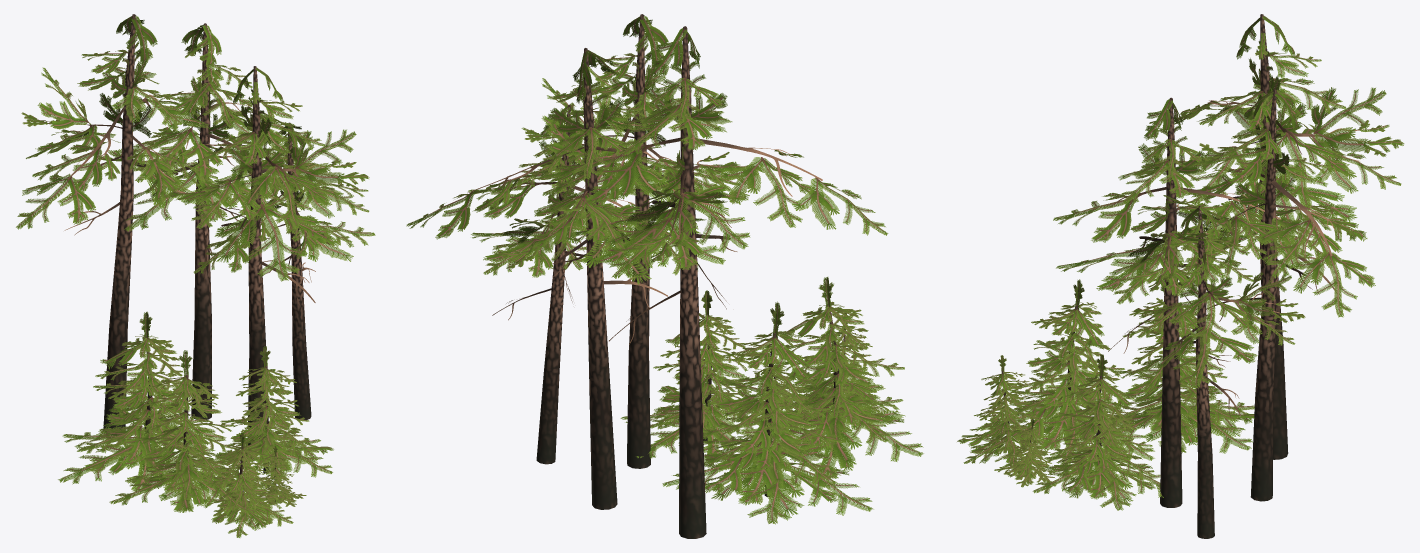
The model's file is Pines_scene (2).fbx.
3 views of the same model, side by side, from view 1: azimuth 30°, elevation 25°; view 2: azimuth 150°, elevation 25°; view 3: azimuth 270°, elevation 25° (orthographic). The views are drawn at different scales.
Parts seen in each view (by area): view 1: Stam1_low.001, Stam1_low, Stam1_low.002, Stam2_low.008, Stam2_low.005, Stam1_low.003, Stam2_low.007, Stam2_low, Stam2_low.006; view 2: Stam1_low.001, Stam1_low.002, Stam2_low.008, Stam1_low, Stam2_low.005, Stam1_low.003, Stam2_low.007, Stam2_low; view 3: Stam1_low.002, Stam1_low.001, Stam1_low, Stam1_low.003, Stam2_low.005, Stam2_low.007, Stam2_low.008, Stam2_low, Stam2_low.006.
Part boxes in pixels (<box>): Stam1_low.001: <box>16,14,219,435</box>; Stam1_low: <box>169,66,369,445</box>; Stam1_low.002: <box>118,23,304,419</box>; Stam2_low.008: <box>58,311,226,492</box>; Stam2_low.005: <box>109,350,265,514</box>; Stam1_low.003: <box>193,122,375,419</box>; Stam2_low.007: <box>213,346,333,479</box>; Stam2_low: <box>204,432,293,537</box>; Stam2_low.006: <box>247,446,306,506</box>; Stam1_low.001: <box>543,26,888,538</box>; Stam1_low.002: <box>406,48,725,509</box>; Stam2_low.008: <box>662,301,873,524</box>; Stam1_low: <box>521,14,740,468</box>; Stam2_low.005: <box>736,277,923,478</box>; Stam1_low.003: <box>468,104,680,464</box>; Stam2_low.007: <box>620,290,764,458</box>; Stam2_low: <box>792,313,894,432</box>; Stam1_low.002: <box>1152,89,1375,501</box>; Stam1_low.001: <box>1174,14,1404,459</box>; Stam1_low: <box>1053,97,1322,507</box>; Stam1_low.003: <box>1132,206,1305,538</box>; Stam2_low.005: <box>977,279,1154,464</box>; Stam2_low.007: <box>1032,354,1163,510</box>; Stam2_low.008: <box>1092,274,1254,453</box>; Stam2_low: <box>957,355,1053,469</box>; Stam2_low.006: <box>994,418,1056,487</box>.
Size of the model in its own units: 1099 by 1239 by 1130.
